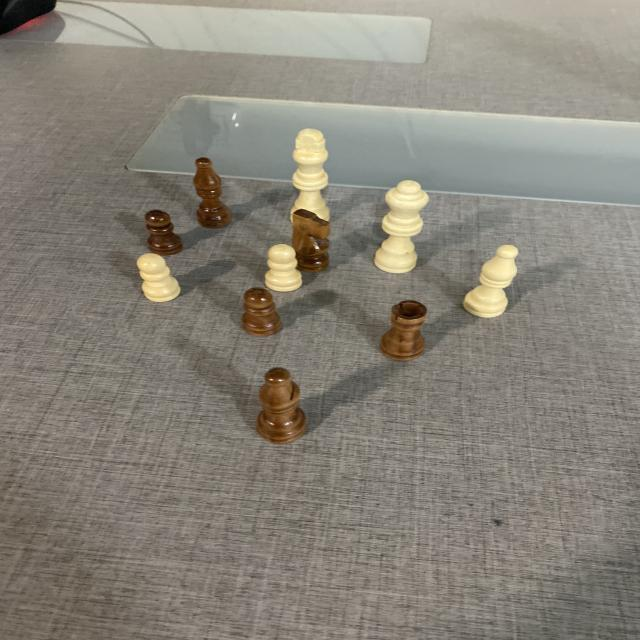Black-Bishop: (256, 366, 310, 444), (191, 156, 235, 230)
Black-Knight: (290, 208, 332, 274)
Black-Pawn: (238, 286, 281, 338), (144, 209, 184, 257)
Black-Rook: (379, 299, 431, 362)
White-Bishop: (462, 244, 520, 319)
White-King: (292, 126, 334, 228)
White-Pawn: (135, 253, 184, 303), (262, 243, 304, 292)
White-Queen: (373, 180, 431, 274)
